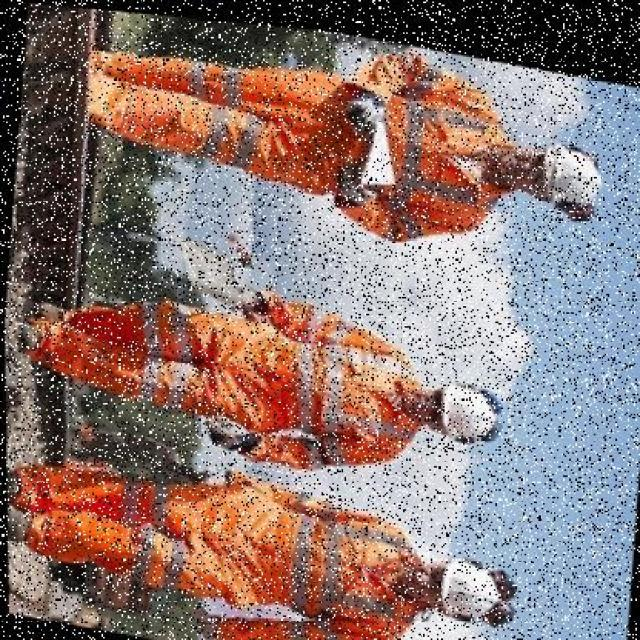helmet: (419, 539, 503, 621), (522, 123, 606, 201), (419, 363, 497, 443)
vest: (237, 50, 515, 214), (162, 476, 416, 640), (162, 302, 419, 454)
